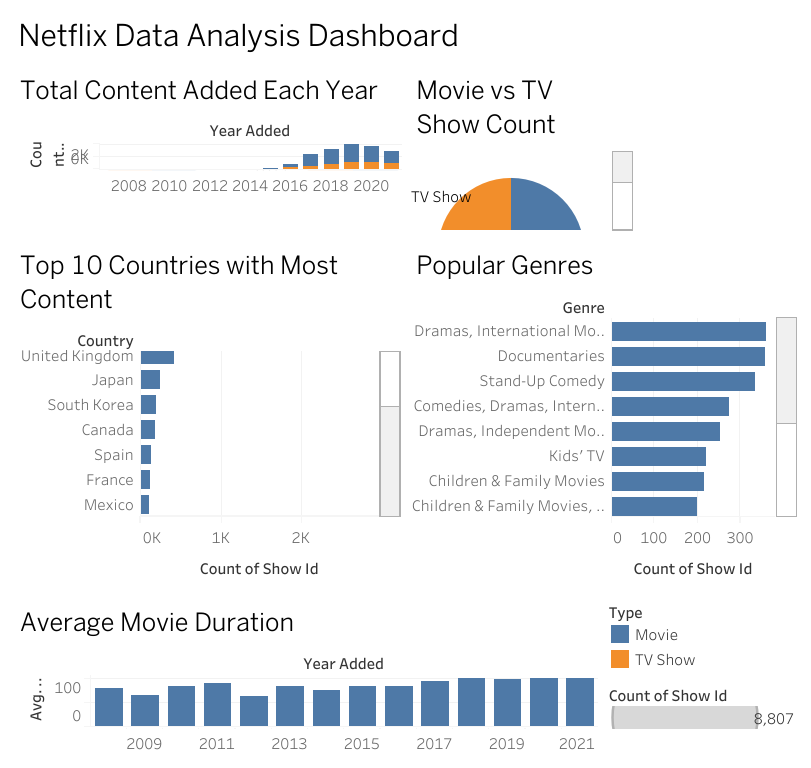

The page's visual inventory and layout, read from the dashboard file:
{"tool":"tableau","page":{"name":"Dashboard 1","canvas":[650,860],"ordinal":0},"visuals":[{"type":"worksheet","title":"Sheet 1","mark":"Automatic","rows":["show_id"],"cols":["year_added"],"box":[8,8.6,317,210.7]},{"type":"worksheet","title":"Sheet 2","mark":"Pie","box":[325,8.6,317,210.7]},{"type":"worksheet","title":"Sheet 3","mark":"Automatic","rows":["country"],"cols":["show_id"],"box":[8,219.3,317,431.7]},{"type":"worksheet","title":"Sheet 4","mark":"Automatic","rows":["genre"],"cols":["show_id"],"box":[325,219.3,317,431.7]},{"type":"worksheet","title":"Sheet 5","mark":"Automatic","rows":["duration_int"],"cols":["year_added"],"box":[8,651,479,200.5]},{"type":"legend","title":"Sheet 1","param":"[federated.00aa3c61ul84921cqakvd0ags13q].[none:type:nk]","box":[487,651,155,77.2]},{"type":"legend","title":"Sheet 2","param":"[federated.00aa3c61ul84921cqakvd0ags13q].[cnt:show_id:qk]","box":[487,728.2,155,54.7]}]}

Visuals, with their boxes on the page's 650x860 design canvas (x1, y1, x2, y2). These are canvas units, not pixel positions in the 811x768 screenshot, which may show the page scaled, cropped or inside an application window:
"Sheet 1" worksheet: pyautogui.locateOnScreen(8, 9, 325, 219)
"Sheet 2" worksheet (Pie marks): pyautogui.locateOnScreen(325, 9, 642, 219)
"Sheet 3" worksheet: pyautogui.locateOnScreen(8, 219, 325, 651)
"Sheet 4" worksheet: pyautogui.locateOnScreen(325, 219, 642, 651)
"Sheet 5" worksheet: pyautogui.locateOnScreen(8, 651, 487, 852)
"Sheet 1" legend: pyautogui.locateOnScreen(487, 651, 642, 728)
"Sheet 2" legend: pyautogui.locateOnScreen(487, 728, 642, 783)
